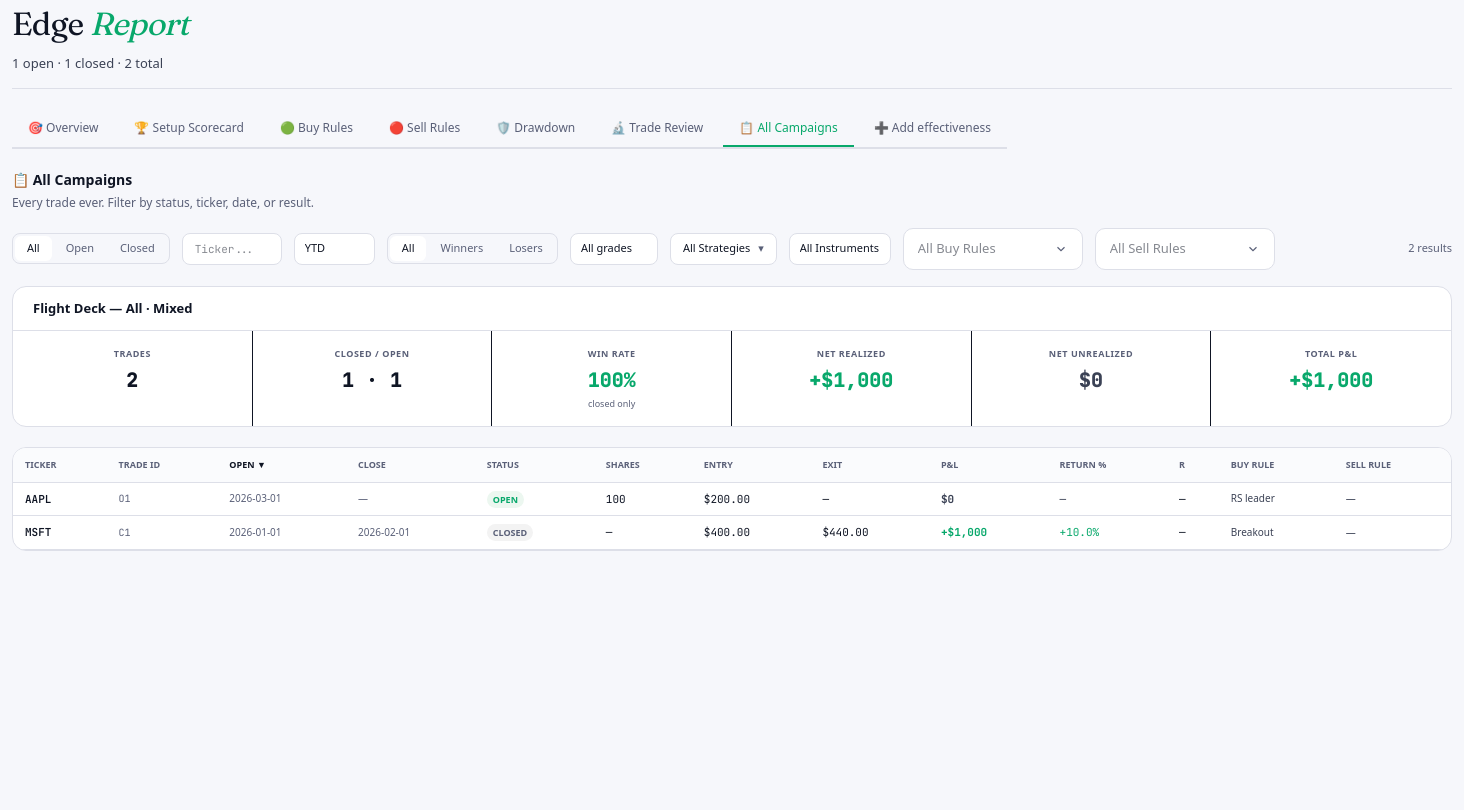
Test: Analytics — All Campaigns Flight Deck › filter toggle from All to Closed swaps mixed-mode tiles to closed-mode tiles
Expected: the text "Total P&L" is shown, [1305,347,1357,360]
Expected: the text "Profit Factor" is not shown
Note: Click "closed" filter button (it's the third in the filter group, lowercase)
What coordinates should you click on to do the following:
click the button "closed"
I would click on:
 (137, 249)
Its box is [108,236,167,261].
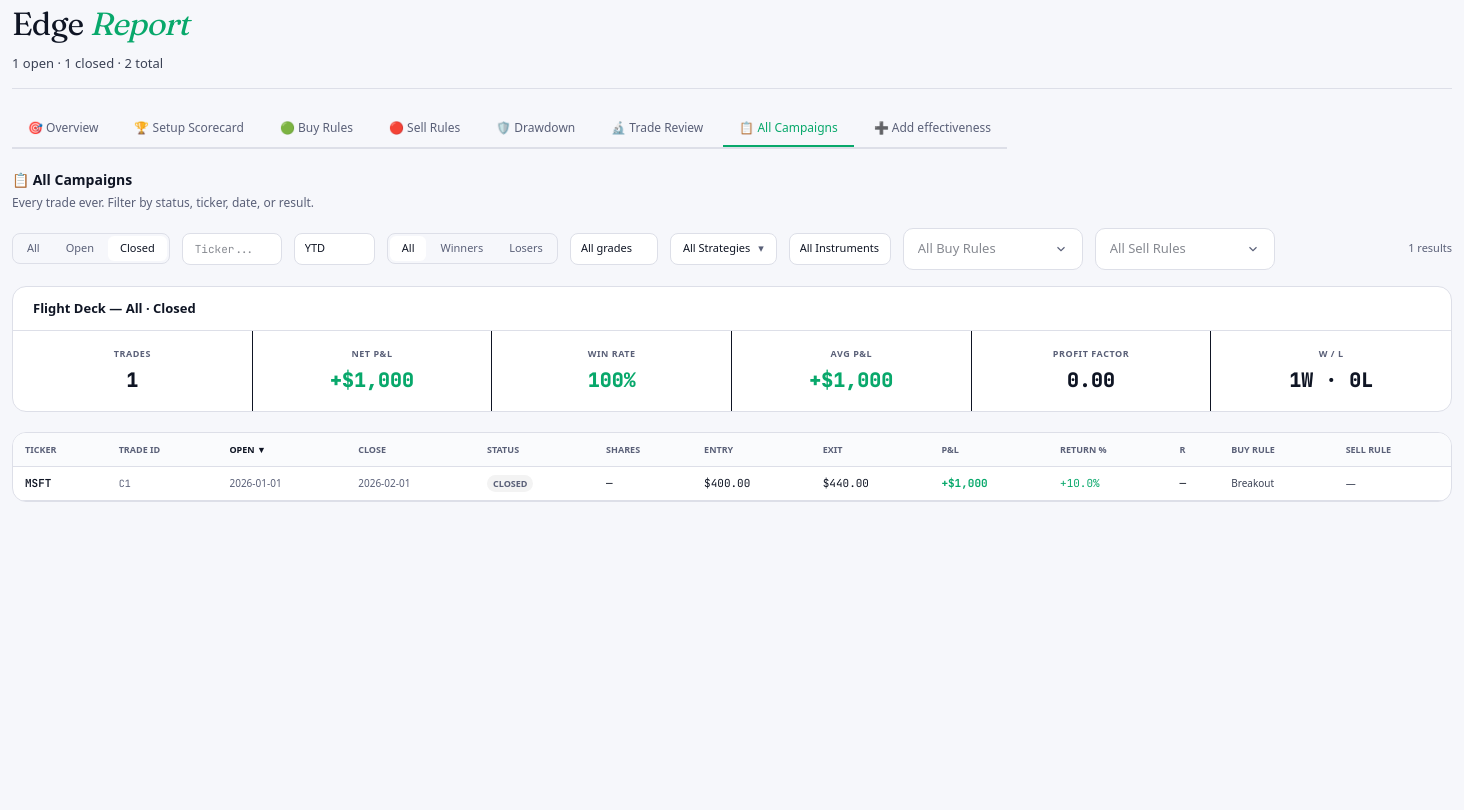
Expected: the text "Profit Factor" is shown, [1053,347,1129,360]
Expected: the text "W / L" is shown, [1319,347,1344,360]
Expected: the text "Total P&L" is gone
